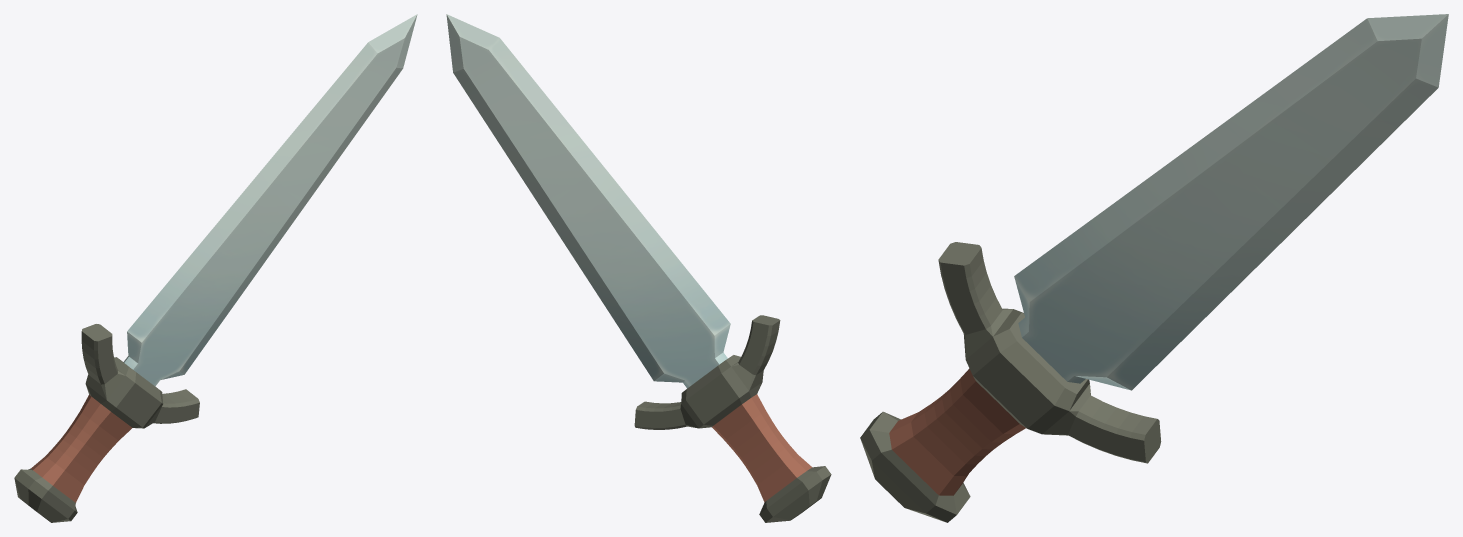
Rendered from sword.glb.
The picture shows the model from 3 angles, left to right: view 1: azimuth 30°, elevation 25°; view 2: azimuth 150°, elevation 25°; view 3: azimuth 330°, elevation 25°; orthographic projection. The views are drawn at different scales.
Parts seen in each view (by area): view 1: Sword; view 2: Sword; view 3: Sword.
Part boxes in pixels (x1,y1,x2,y2): Sword: [14, 14, 417, 522]; Sword: [446, 14, 831, 522]; Sword: [860, 14, 1448, 522].
Bounding box in the file's own units: 13.55 × 14.06 × 1.88.
3 materials, 1 textured.
